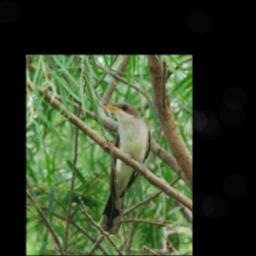Cuckoo: (98, 102, 151, 236)
